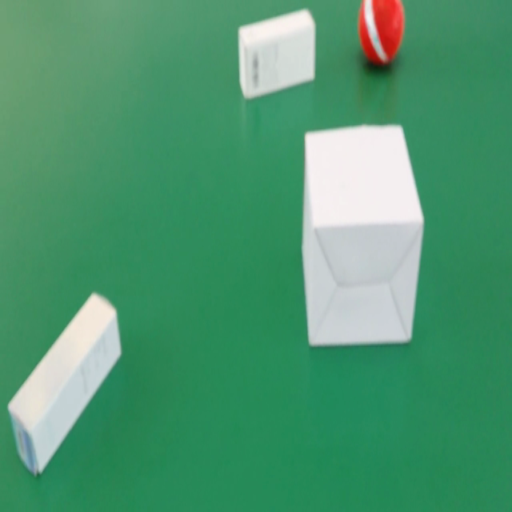ball: (355, 0, 403, 62)
